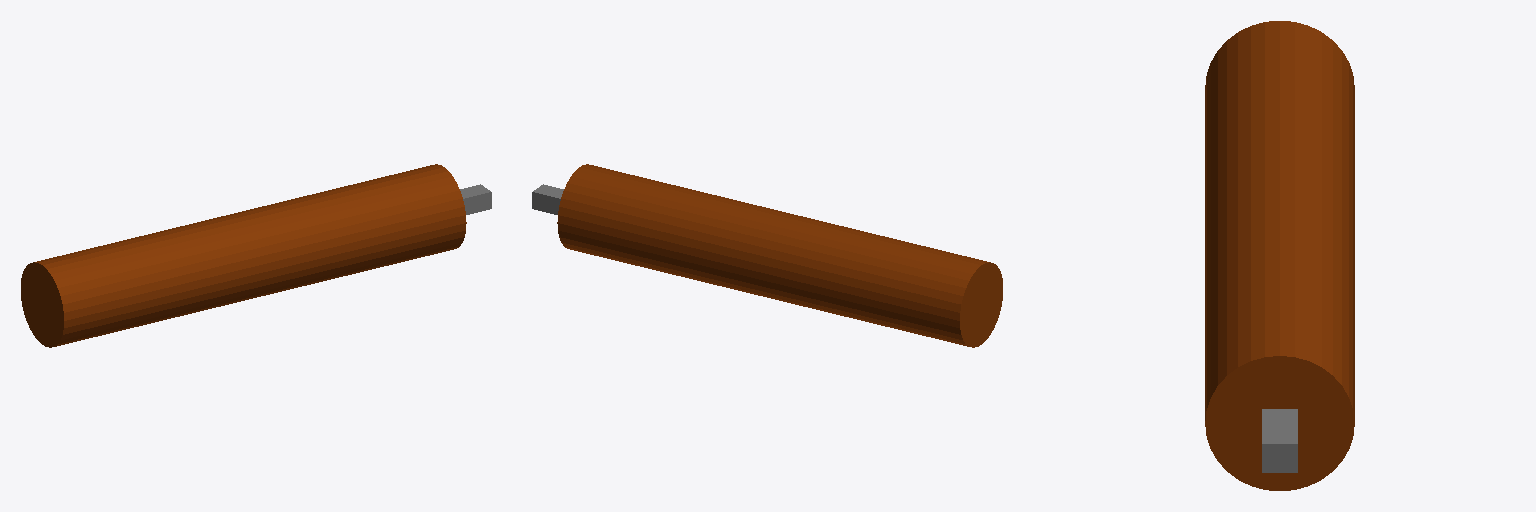
robot.urdf — handle_head:
<?xml version="1.0"?>
<robot name="handle_head">

  <link name="handle_head">
    <!-- Handle -->
    <visual>
              <origin xyz="0 0 0" rpy="0 -1.5707963267948966 0"/>
        <geometry>
          <cylinder length="0.1489707621646199" radius="0.014050439593654908"/>
        </geometry>
        
      <material name="brown">
        <color rgba="0.55 0.27 0.07 1.0"/>
      </material>
    </visual>
    <collision>
              <origin xyz="0 0 0" rpy="0 -1.5707963267948966 0"/>
        <geometry>
          <cylinder length="0.1489707621646199" radius="0.014050439593654908"/>
        </geometry>
        
    </collision>

    <!-- Head -->
    <visual>
              <origin xyz="0.08220373822513072 0 0" rpy="0 0 0"/>
        <geometry>
          <box size="0.015436714285641515 0.006684593638729818 0.006084771325084622"/>
        </geometry>
        
      <material name="gray">
        <color rgba="0.5 0.5 0.5 1.0"/>
      </material>
    </visual>
    <collision>
              <origin xyz="0.08220373822513072 0 0" rpy="0 0 0"/>
        <geometry>
          <box size="0.015436714285641515 0.006684593638729818 0.006084771325084622"/>
        </geometry>
        
    </collision>

    <inertial>
      <origin xyz="0.00041743525381368206 0 0" rpy="0 0 0"/>
      <mass value="0.04734900747285425"/>
      <inertia ixx="4.547715057949626e-06" iyy="0.00011481804278321696" izz="0.0001148181962516672" ixy="0" ixz="0" iyz="0"/>
    </inertial>
  </link>

</robot>

--- Facts derived from the render (not from the file) ---
3 views of the same robot in one strip: view 1: azimuth 30°, elevation 25°; view 2: azimuth 150°, elevation 25°; view 3: azimuth 270°, elevation 25° (orthographic).
Robot: handle_head — 1 links, 0 joints (none); root link handle_head; default pose: every joint at zero.
Visible links, largest first — view 1: handle_head; view 2: handle_head; view 3: handle_head.
Link boxes in pixels (left/top/right/bottom): handle_head: left=21, top=164, right=491, bottom=347; handle_head: left=532, top=164, right=1002, bottom=347; handle_head: left=1205, top=21, right=1354, bottom=490.
Size in the robot's own frame: 0.1644 by 0.0281 by 0.0281 metres.
Geometry: primitives only (box / cylinder / sphere), no mesh files.
